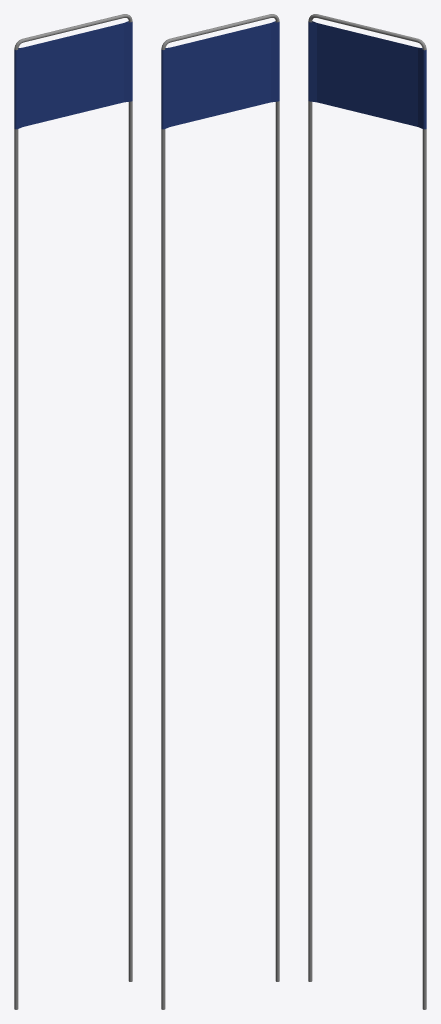
File: marker2_darkblue_LOD0.gltf
The picture shows the model from 3 angles, left to right: view 1: azimuth 30°, elevation 25°; view 2: azimuth 210°, elevation 25°; view 3: azimuth 330°, elevation 25°; orthographic projection.
Parts seen in each view (by area): view 1: Loft001; view 2: Loft001; view 3: Loft001.
Boxes of the visible parts, left/top/right/bottom form: Loft001: left=14, top=14, right=132, bottom=1009; Loft001: left=161, top=14, right=279, bottom=1009; Loft001: left=308, top=14, right=426, bottom=1009.
Bounding box in the file's own units: 0.701 × 5.5 × 0.0216.
